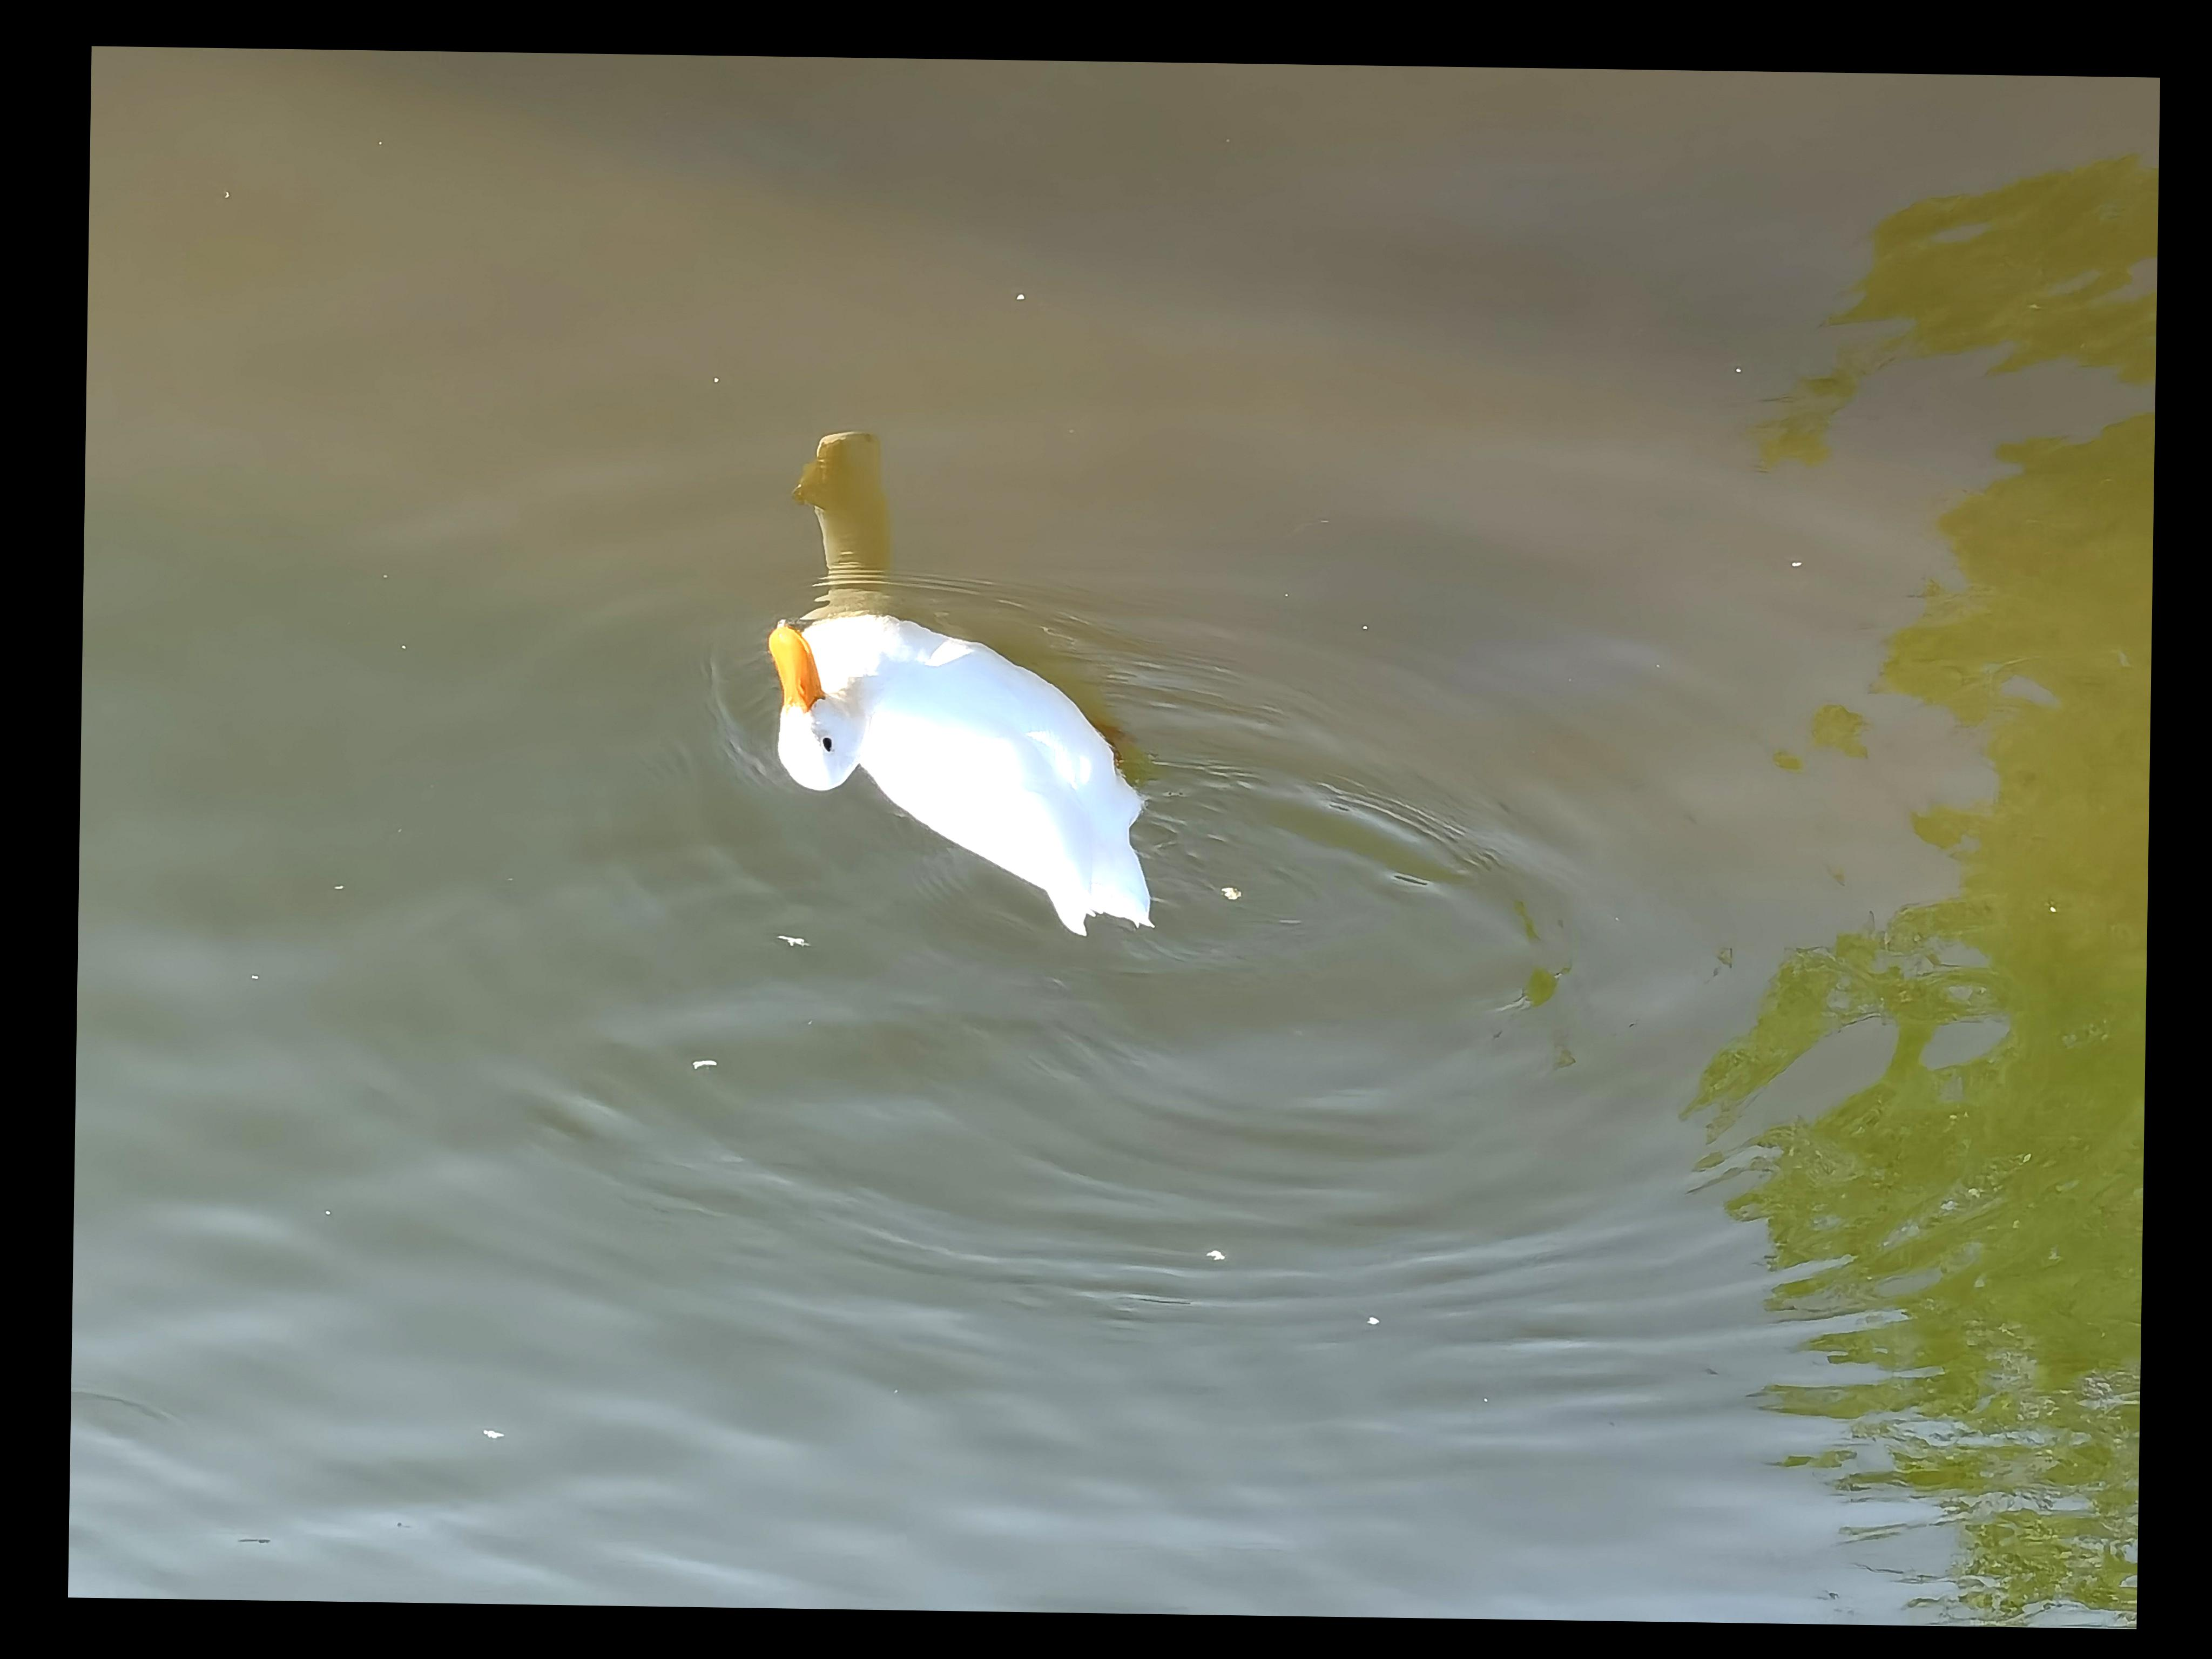duck: (726, 565, 1186, 955)
